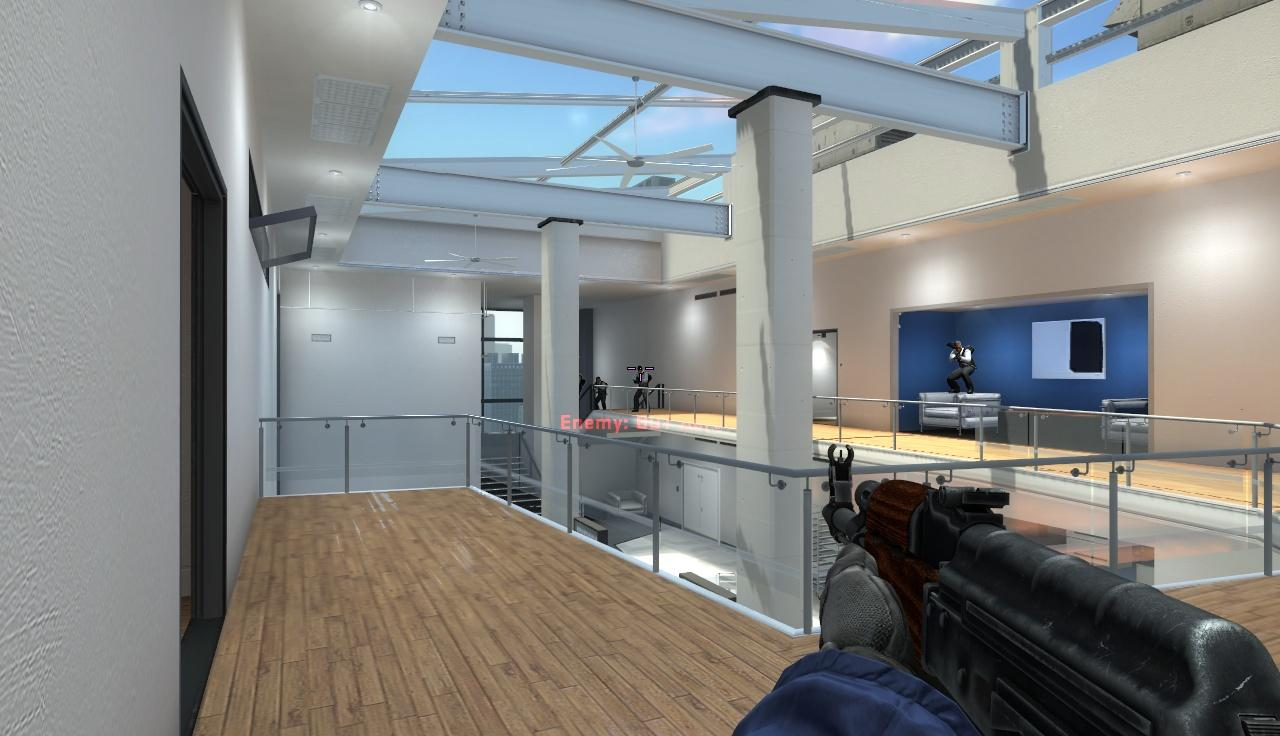rifle: (819, 443, 1280, 736)
tt: (948, 341, 974, 393), (634, 366, 650, 410), (594, 376, 607, 410)
tthead: (954, 341, 962, 352), (637, 366, 643, 372), (595, 376, 600, 383)
